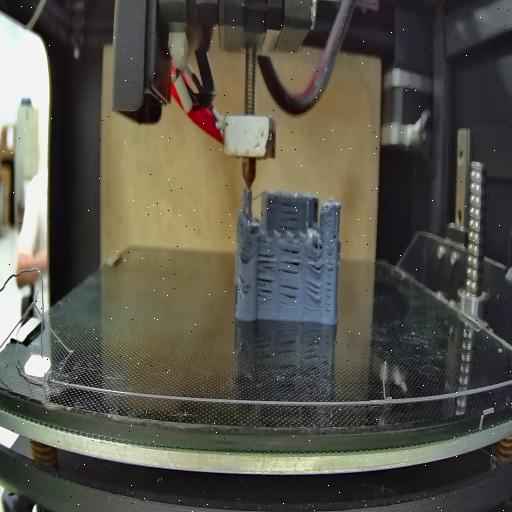cracks: (278, 200, 300, 231), (280, 247, 302, 275), (326, 254, 335, 314), (256, 276, 274, 304), (306, 254, 326, 277), (278, 283, 298, 306), (304, 281, 324, 303), (258, 252, 276, 272), (238, 245, 250, 263), (330, 226, 337, 244), (238, 274, 246, 288)
